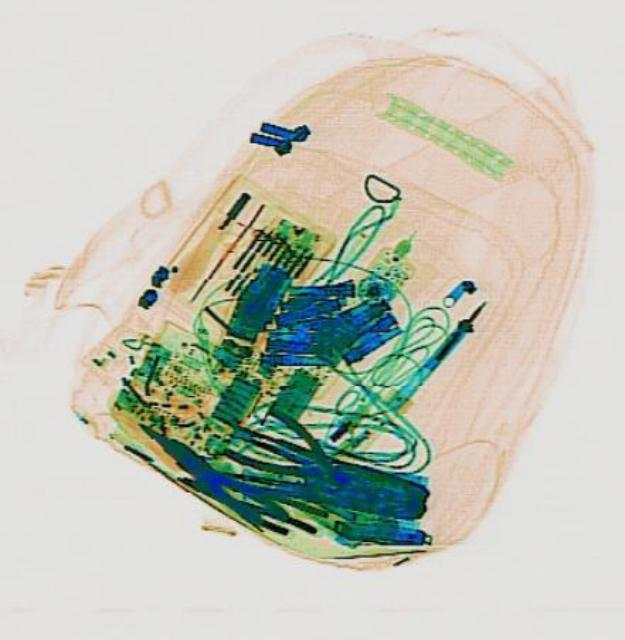Pliers: (216, 394, 389, 510)
